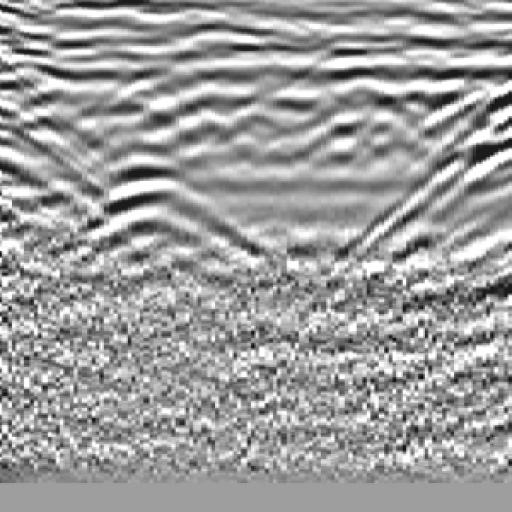metalic: (76, 41, 247, 284)
nonmetalic: (378, 35, 512, 279)
